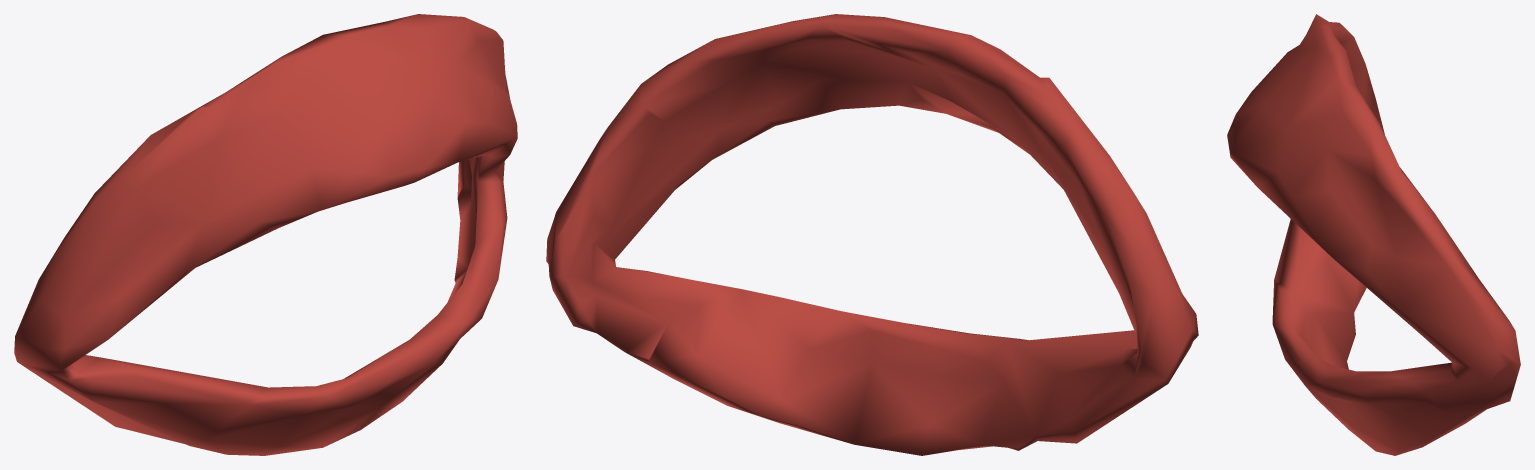
The model's file is musculos-palpebral-part-of-orbicularis-oculi-l.glb.
3 views of the same model, side by side, from view 1: azimuth 30°, elevation 25°; view 2: azimuth 150°, elevation 25°; view 3: azimuth 270°, elevation 25° (orthographic). The views are drawn at different scales.
Visible parts, largest first — view 1: Palpebral part of orbicularis oculi.l; view 2: Palpebral part of orbicularis oculi.l; view 3: Palpebral part of orbicularis oculi.l.
Part boxes in pixels (box(x1,y1,x2,y2)): Palpebral part of orbicularis oculi.l: box(14, 14, 517, 455); Palpebral part of orbicularis oculi.l: box(546, 14, 1198, 455); Palpebral part of orbicularis oculi.l: box(1227, 14, 1520, 455).
Size of the model in its own units: 0.0336 by 0.0241 by 0.0172.
